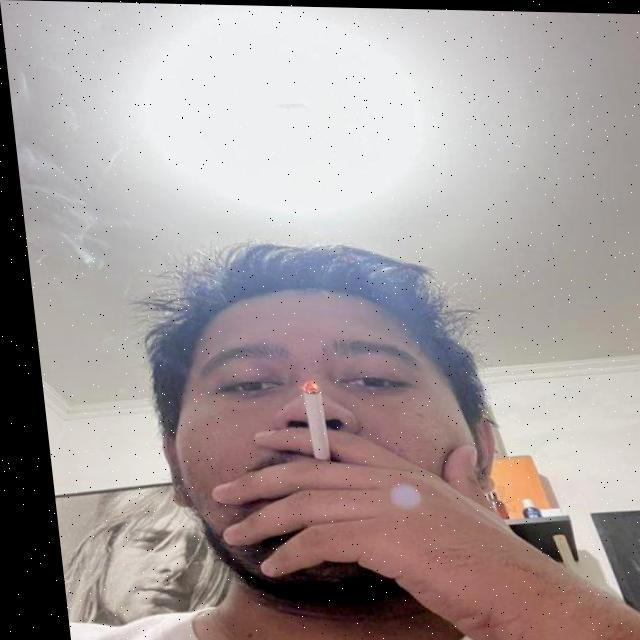cigarette: (293, 381, 318, 463)
